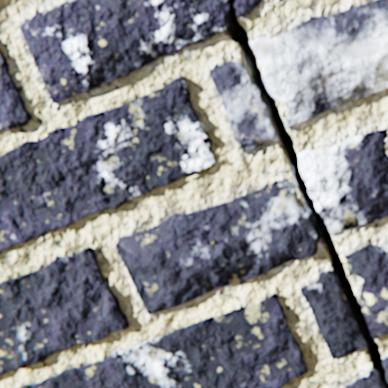brick: (0, 77, 216, 252), (20, 293, 307, 387), (0, 247, 129, 374), (0, 50, 33, 129)
broken_brick: (116, 173, 319, 313), (21, 0, 234, 103), (250, 0, 387, 127), (298, 129, 387, 234), (211, 58, 277, 152), (301, 269, 365, 357), (341, 243, 387, 337), (343, 368, 386, 387), (234, 0, 261, 17), (382, 356, 387, 383)
crack: (226, 0, 387, 387), (204, 229, 229, 261), (201, 213, 215, 227)
